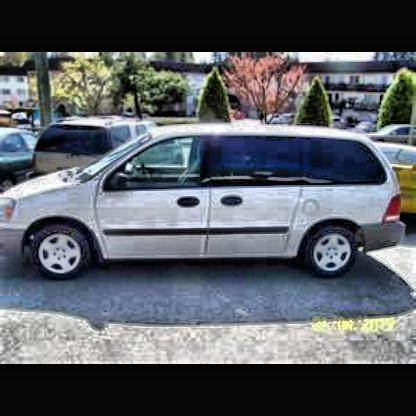Ford Freestar Minivan 2007: (3, 121, 410, 281)
